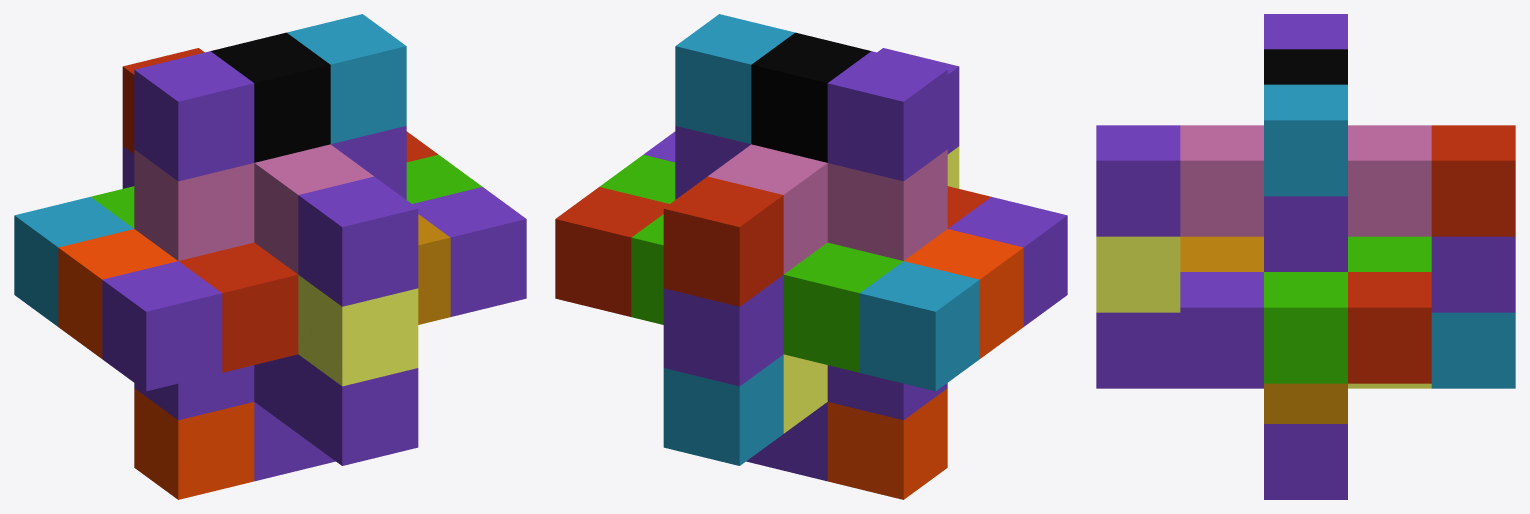
3 renders of one model, left to right at view 1: azimuth 30°, elevation 25°; view 2: azimuth 150°, elevation 25°; view 3: azimuth 270°, elevation 25°, orthographic. The views are drawn at different scales.
Visible parts, largest first — view 1: Null_2, Null_1, Null, Null_3, Null_4; view 2: Null_2, Null_3, Null_4, Null_1, Null; view 3: Null_2, Null, Null_4, Null_1, Null_3.
Part boxes in pixels (bbox=[...]): Null_2: bbox=[58, 14, 482, 499]; Null_1: bbox=[102, 144, 526, 433]; Null: bbox=[298, 176, 418, 465]; Null_3: bbox=[14, 131, 438, 326]; Null_4: bbox=[122, 48, 204, 188]; Null_2: bbox=[599, 14, 1023, 499]; Null_3: bbox=[555, 144, 979, 433]; Null_4: bbox=[663, 176, 783, 465]; Null_1: bbox=[643, 131, 1067, 326]; Null: bbox=[877, 48, 959, 188]; Null_2: bbox=[1264, 14, 1347, 499]; Null: bbox=[1096, 125, 1180, 388]; Null_4: bbox=[1431, 125, 1515, 388]; Null_1: bbox=[1180, 125, 1263, 388]; Null_3: bbox=[1348, 125, 1431, 388].
Bounding box in the file's own units: 1000 × 1000 × 1000.
